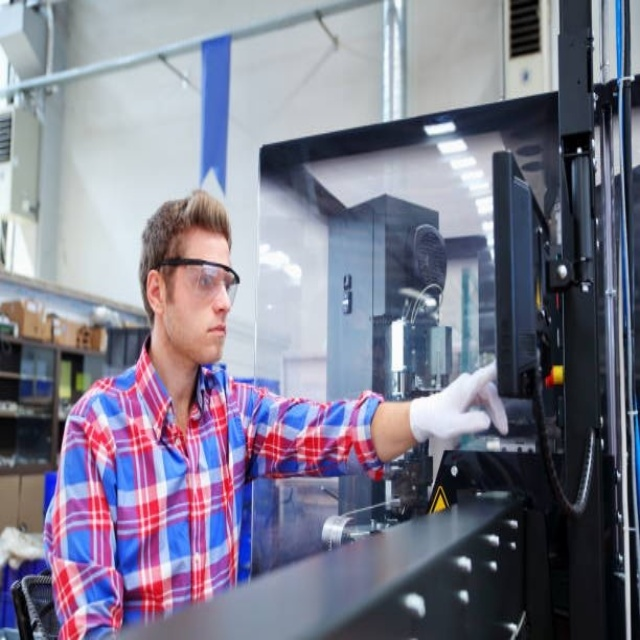Gafas: (156, 258, 241, 307)
Guantes: (408, 361, 507, 448)
Sin_mascara: (199, 318, 229, 362)
